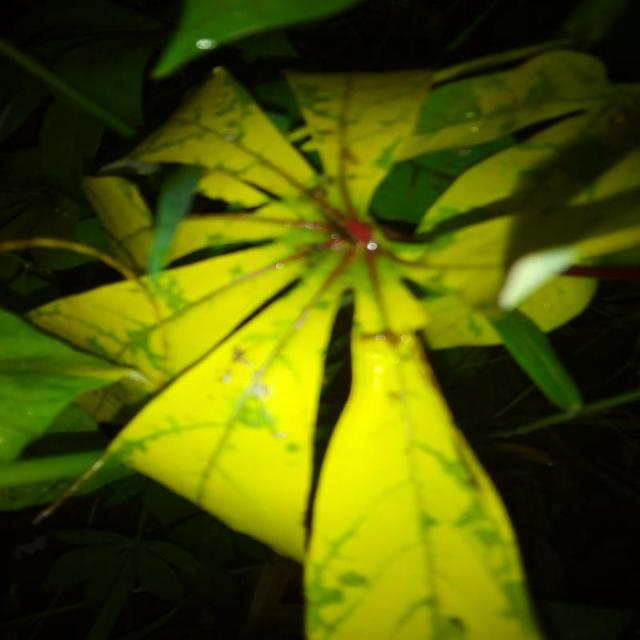cassava leaf: (2, 36, 638, 639)
